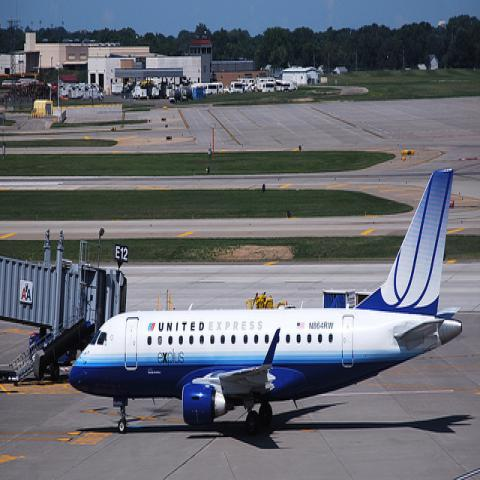bus: (237, 79, 257, 92), (207, 82, 223, 96), (231, 81, 243, 96), (262, 81, 277, 93), (277, 82, 282, 91)
car: (66, 84, 84, 100), (224, 85, 230, 93)
truck: (150, 81, 163, 99), (281, 80, 297, 93), (132, 87, 147, 100)
